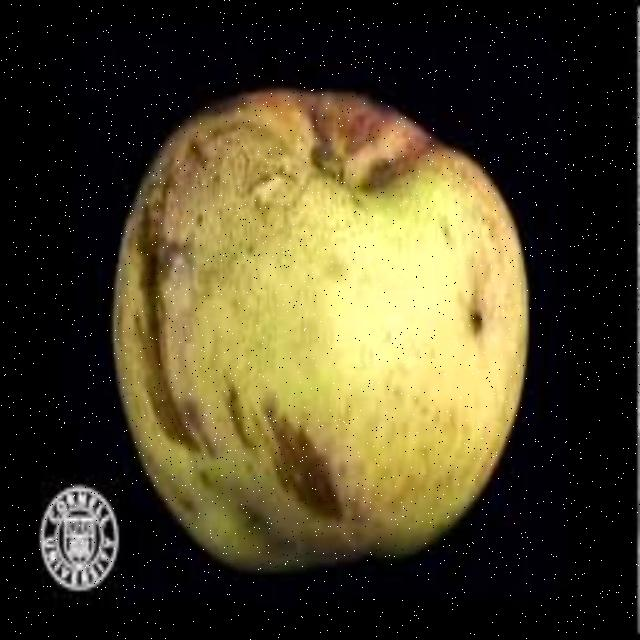BLOTCH: (99, 68, 535, 590)
